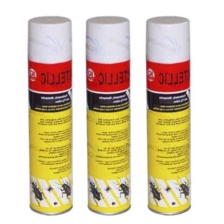aerosol_cans: (142, 12, 195, 216), (25, 14, 74, 216), (84, 14, 132, 218)
